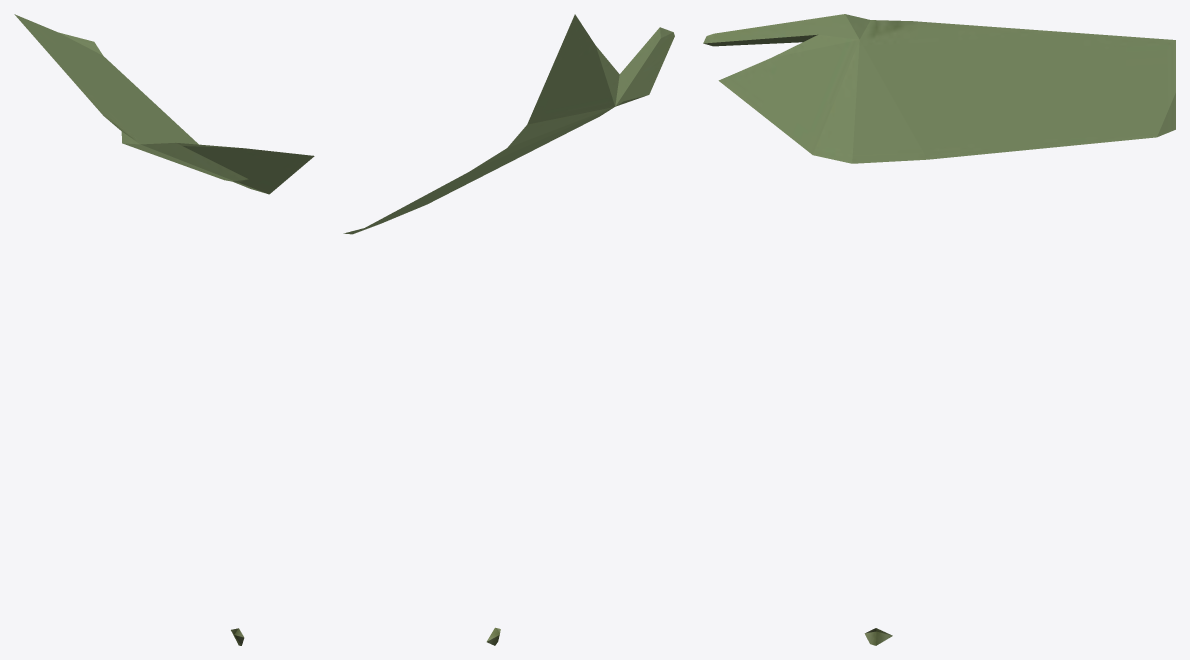
The picture shows the model from 3 angles, left to right: view 1: azimuth 30°, elevation 25°; view 2: azimuth 150°, elevation 25°; view 3: azimuth 270°, elevation 25°; orthographic projection. The views are drawn at different scales.
Bounding box in the file's own units: 0.6777 × 2.68 × 2.03.
Materials: 1 (1 with a texture image).
